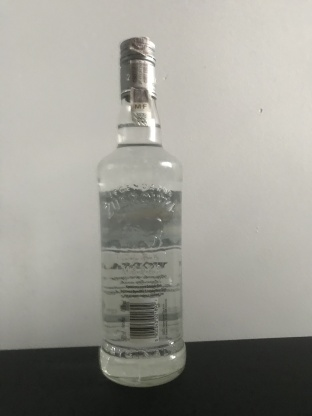nakretka: (117, 36, 159, 102)
